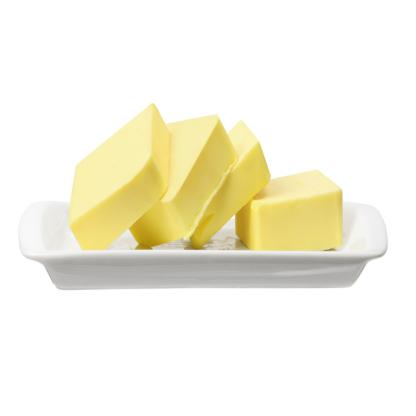butter: (73, 101, 170, 252), (132, 114, 230, 246), (240, 168, 343, 269), (183, 122, 266, 246)
